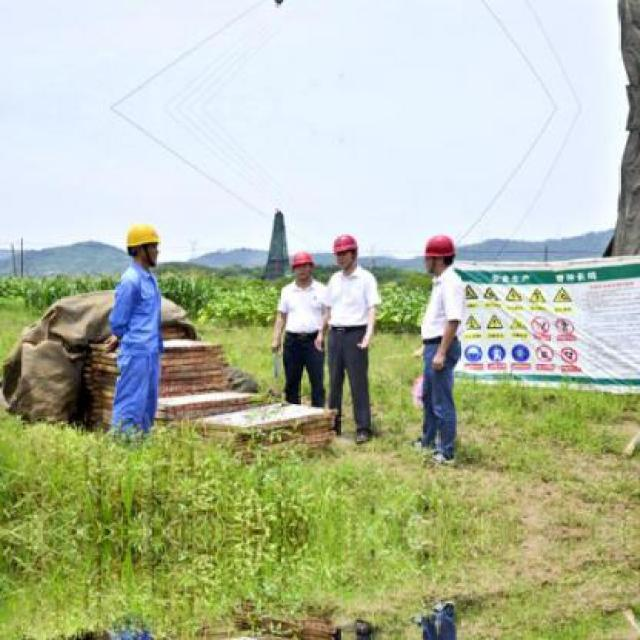helmet: (122, 216, 162, 273), (419, 229, 458, 278), (288, 244, 318, 284), (328, 230, 358, 268)
